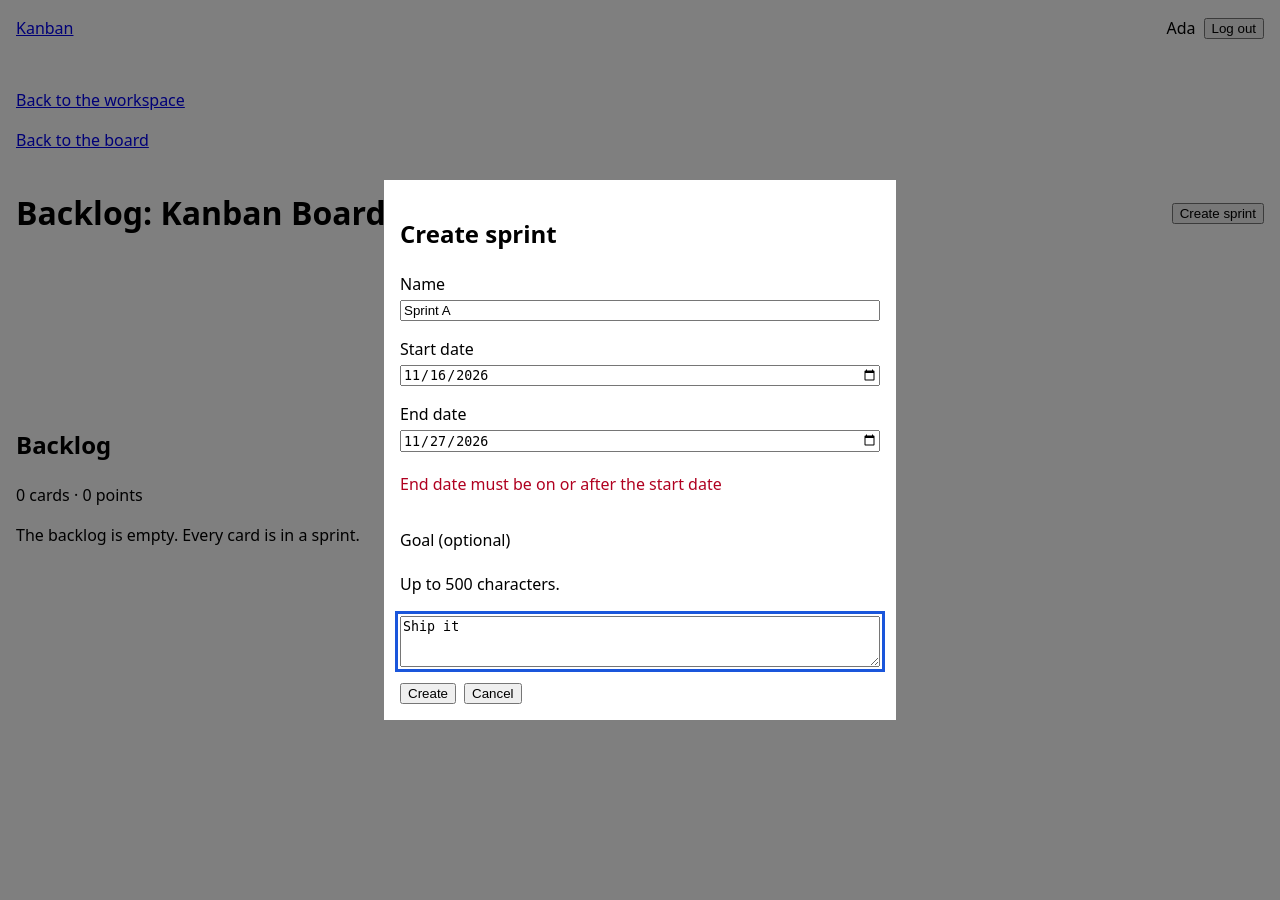
it: backlog page › creates a sprint: labelled date fields, validation, then the request
Earlier steps of the test are not shown.
Click the button "Create".
click(428, 693)  # box [400, 683, 456, 704]
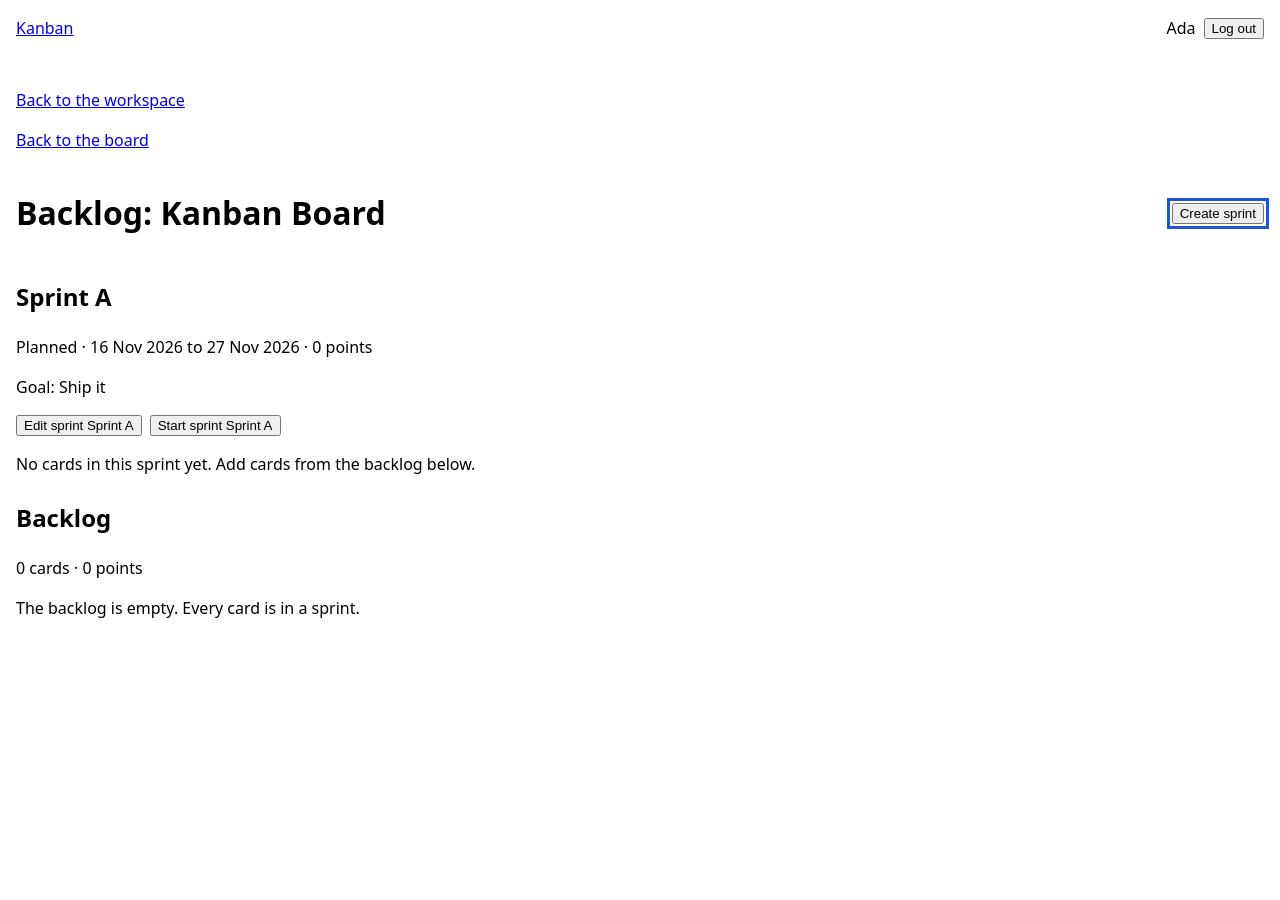
Now the dialog is gone
Now the element "Sprint A" is shown, box [16, 280, 475, 475]
